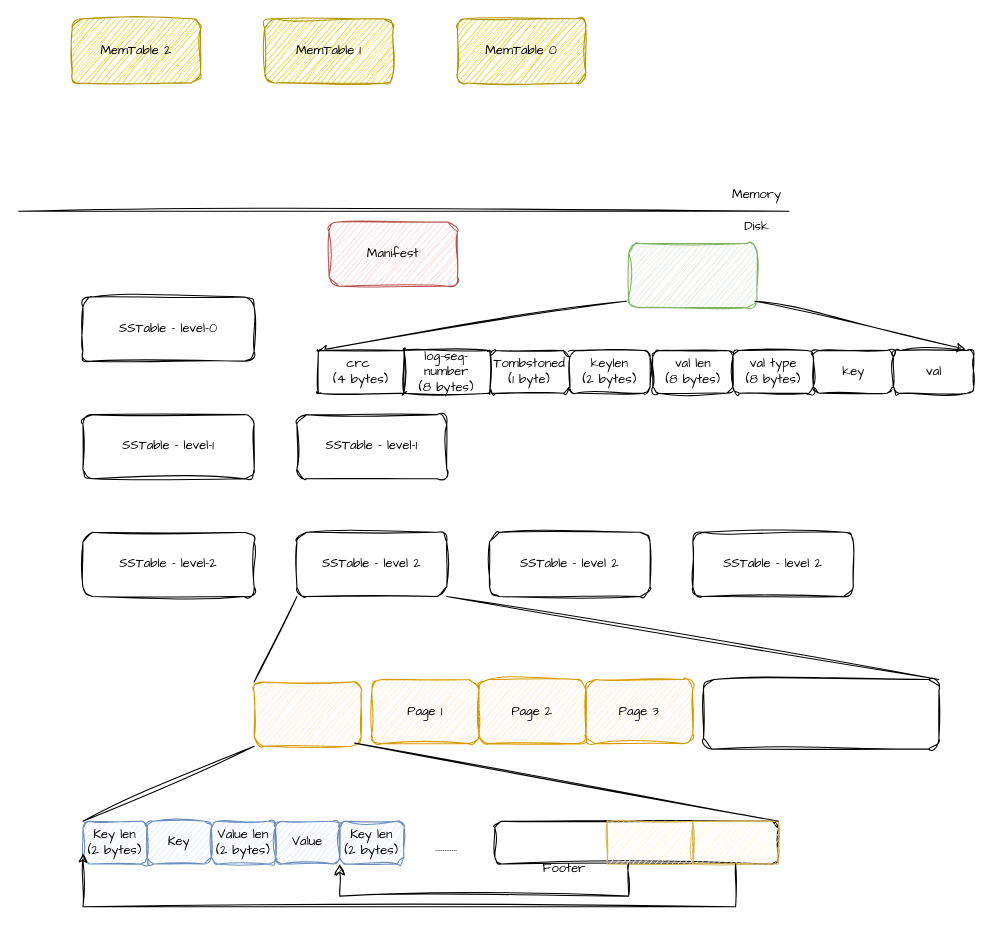
The diagram is 993 pixels wide and 934 high, and some of its shapes have lost their labels. Each missing label, with the centre of its shape:
"Index: min-key-len, max-key-len, min-key, max-key" goes at [820,713].
"Offset Key-0" goes at [735,842].
"Offset Key-1" goes at [649,842].
"Page 0" goes at [307,713].
"WAL" goes at [692,275].
